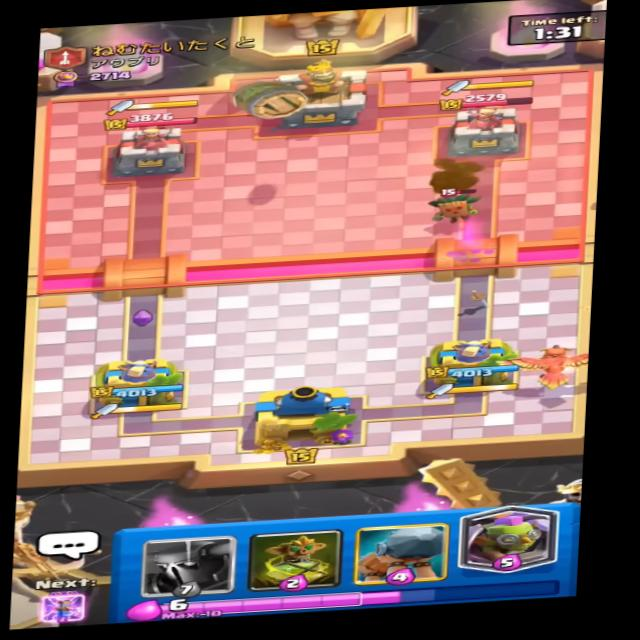dart-goblin: (426, 180, 483, 225)
goblin-barrel: (223, 76, 310, 126)
